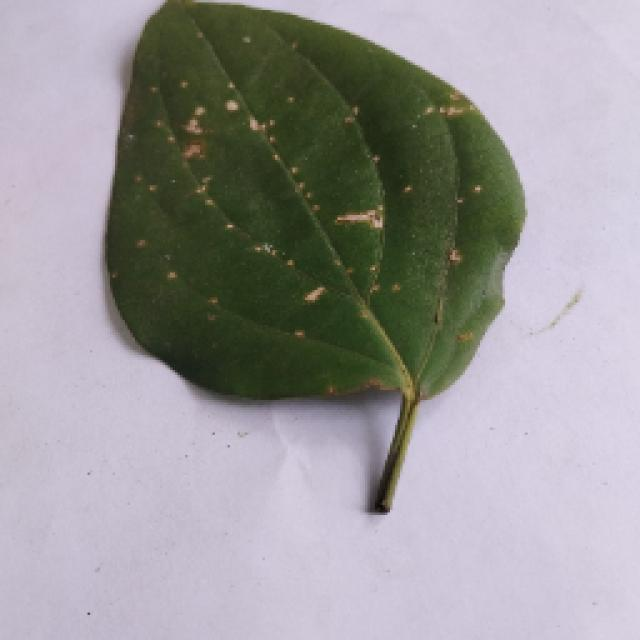pollu-disease: (105, 2, 520, 502)
